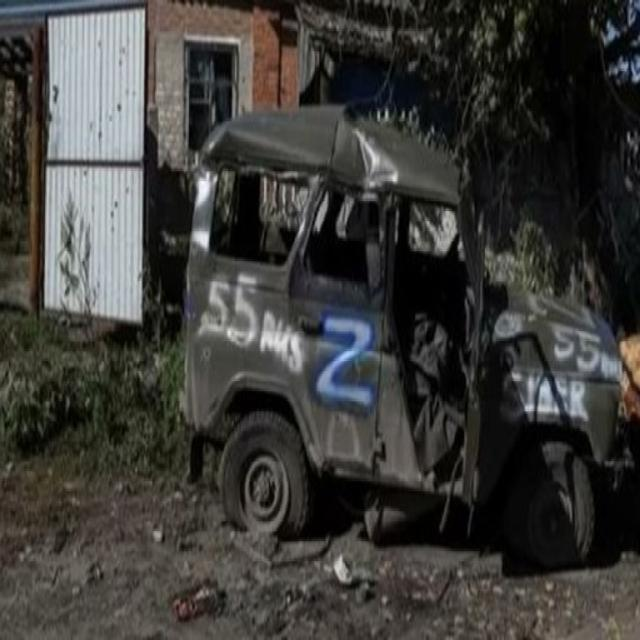CAR: (173, 91, 625, 580)
